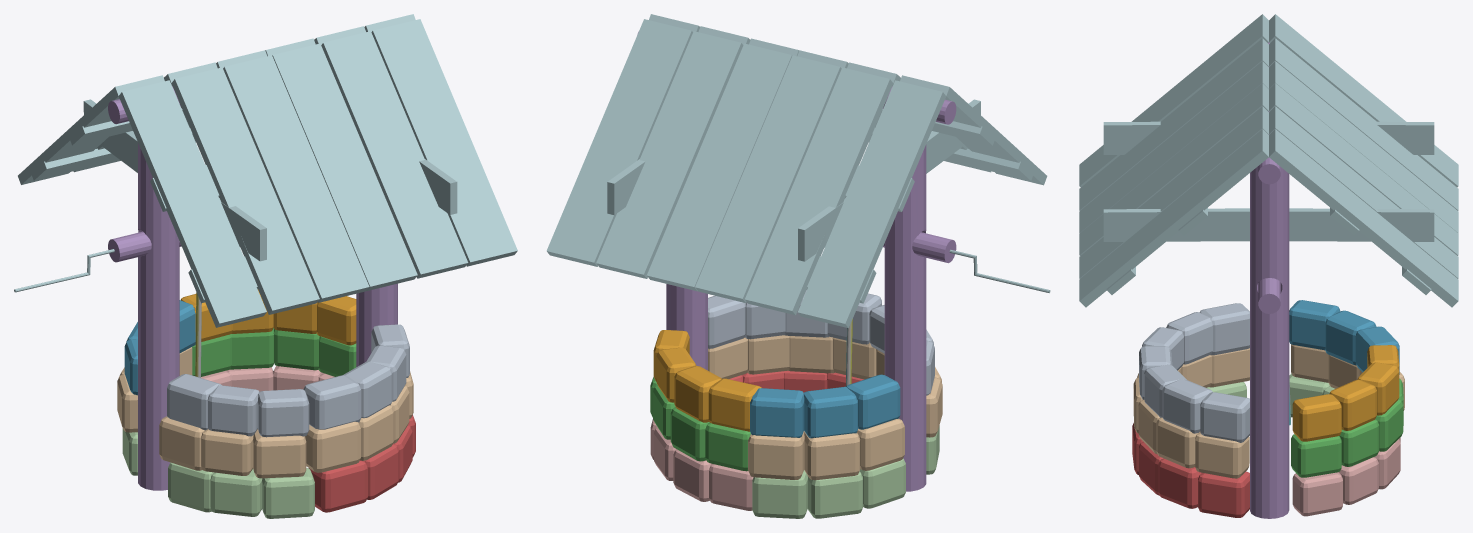
The picture shows the model from 3 angles, left to right: view 1: azimuth 30°, elevation 25°; view 2: azimuth 150°, elevation 25°; view 3: azimuth 270°, elevation 25°; orthographic projection. The views are drawn at different scales.
Visible parts, largest first — view 1: world; view 2: world; view 3: world.
Boxes of the visible parts, <box> form: world: <box>14,14,517,518</box>; world: <box>546,14,1050,518</box>; world: <box>1079,14,1458,518</box>.
Size of the model in its own units: 1.8 by 1.72 by 1.55.
